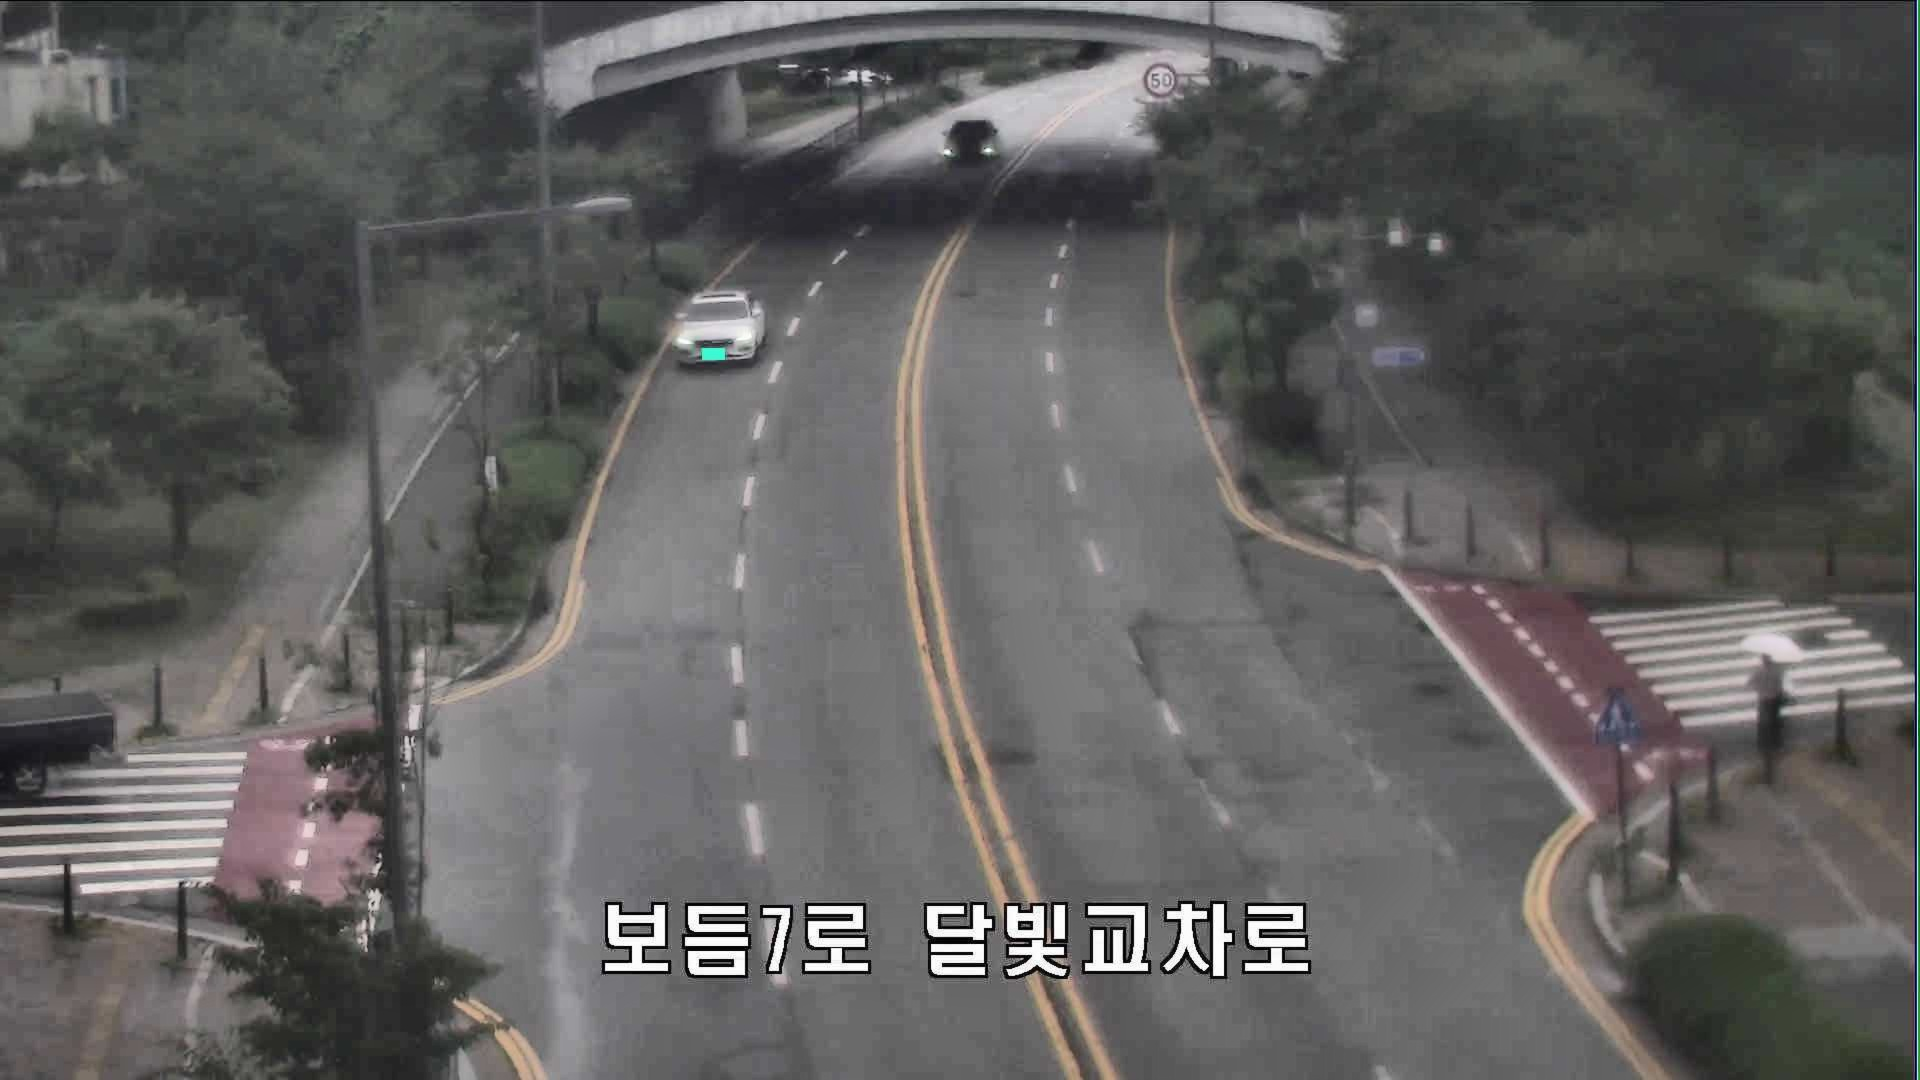um_crosswalk: (1733, 630, 1805, 767)
